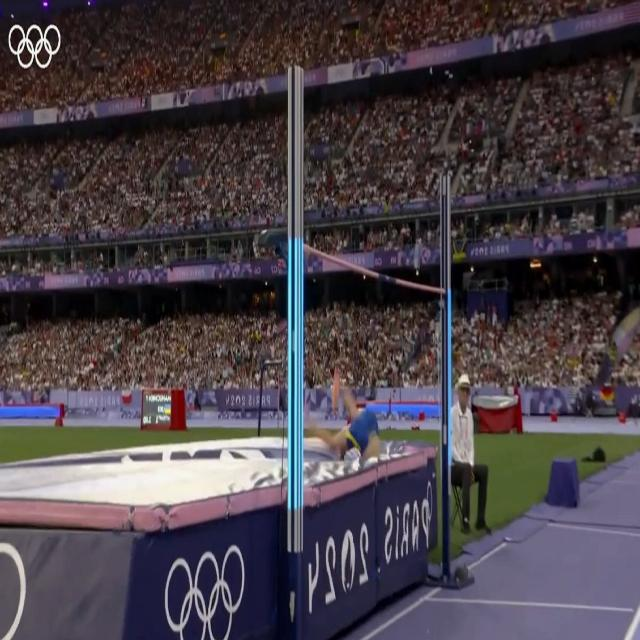land: (304, 369, 382, 474)
